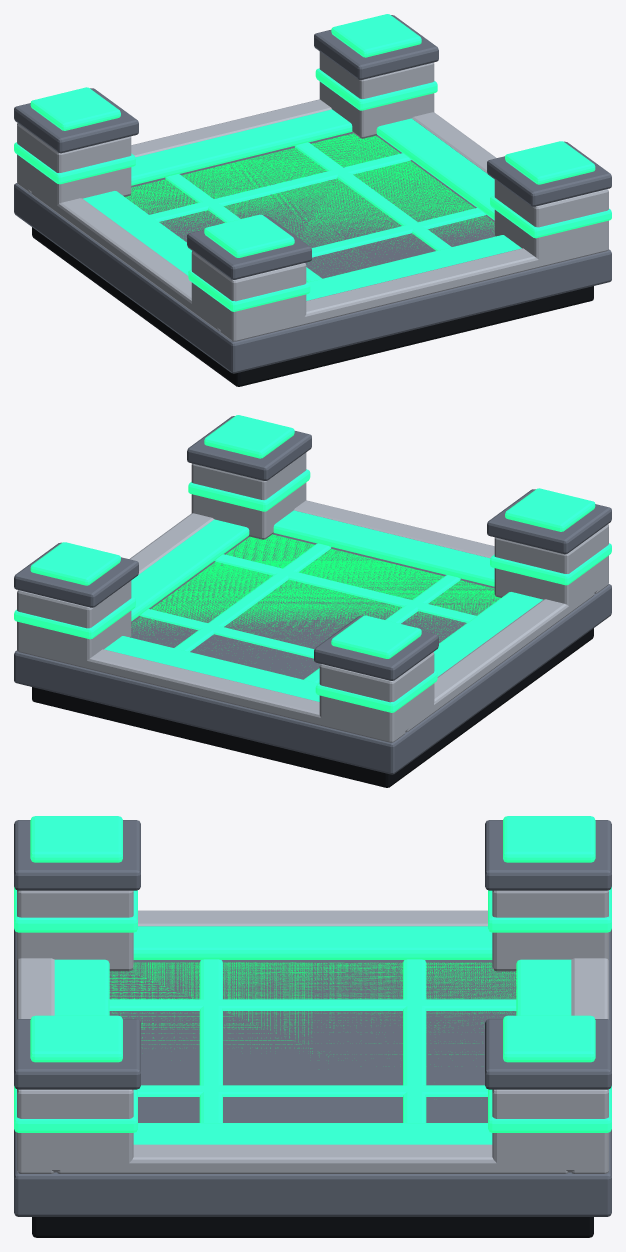
Rendered from sellpad.glb.
The picture shows the model from 3 angles, top to bottom: view 1: azimuth 30°, elevation 25°; view 2: azimuth 150°, elevation 25°; view 3: azimuth 270°, elevation 25°; orthographic projection. The views are drawn at different scales.
Parts seen in each view (by area): view 1: sellpad; view 2: sellpad; view 3: sellpad.
Boxes of the visible parts, x1,y1,x2,y2 form: sellpad: (14,14,611,386); sellpad: (14,415,611,787); sellpad: (14,816,611,1237).
Bounding box in the file's own units: 2 × 0.715 × 2.
